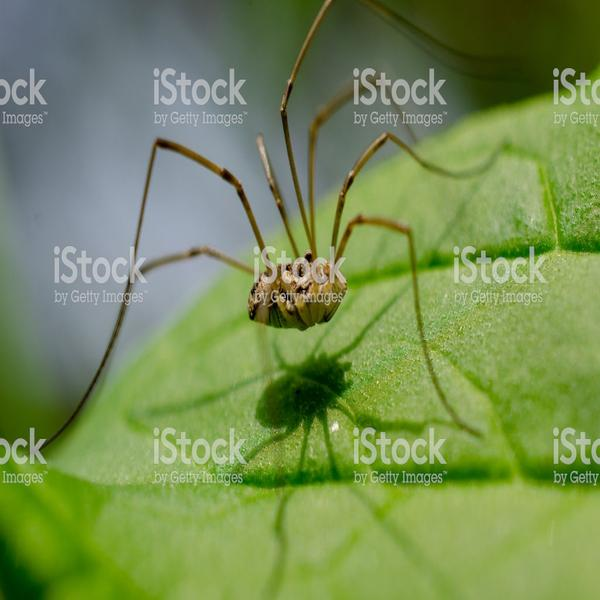Daddy Long Legs Spider: (45, 5, 593, 436)
